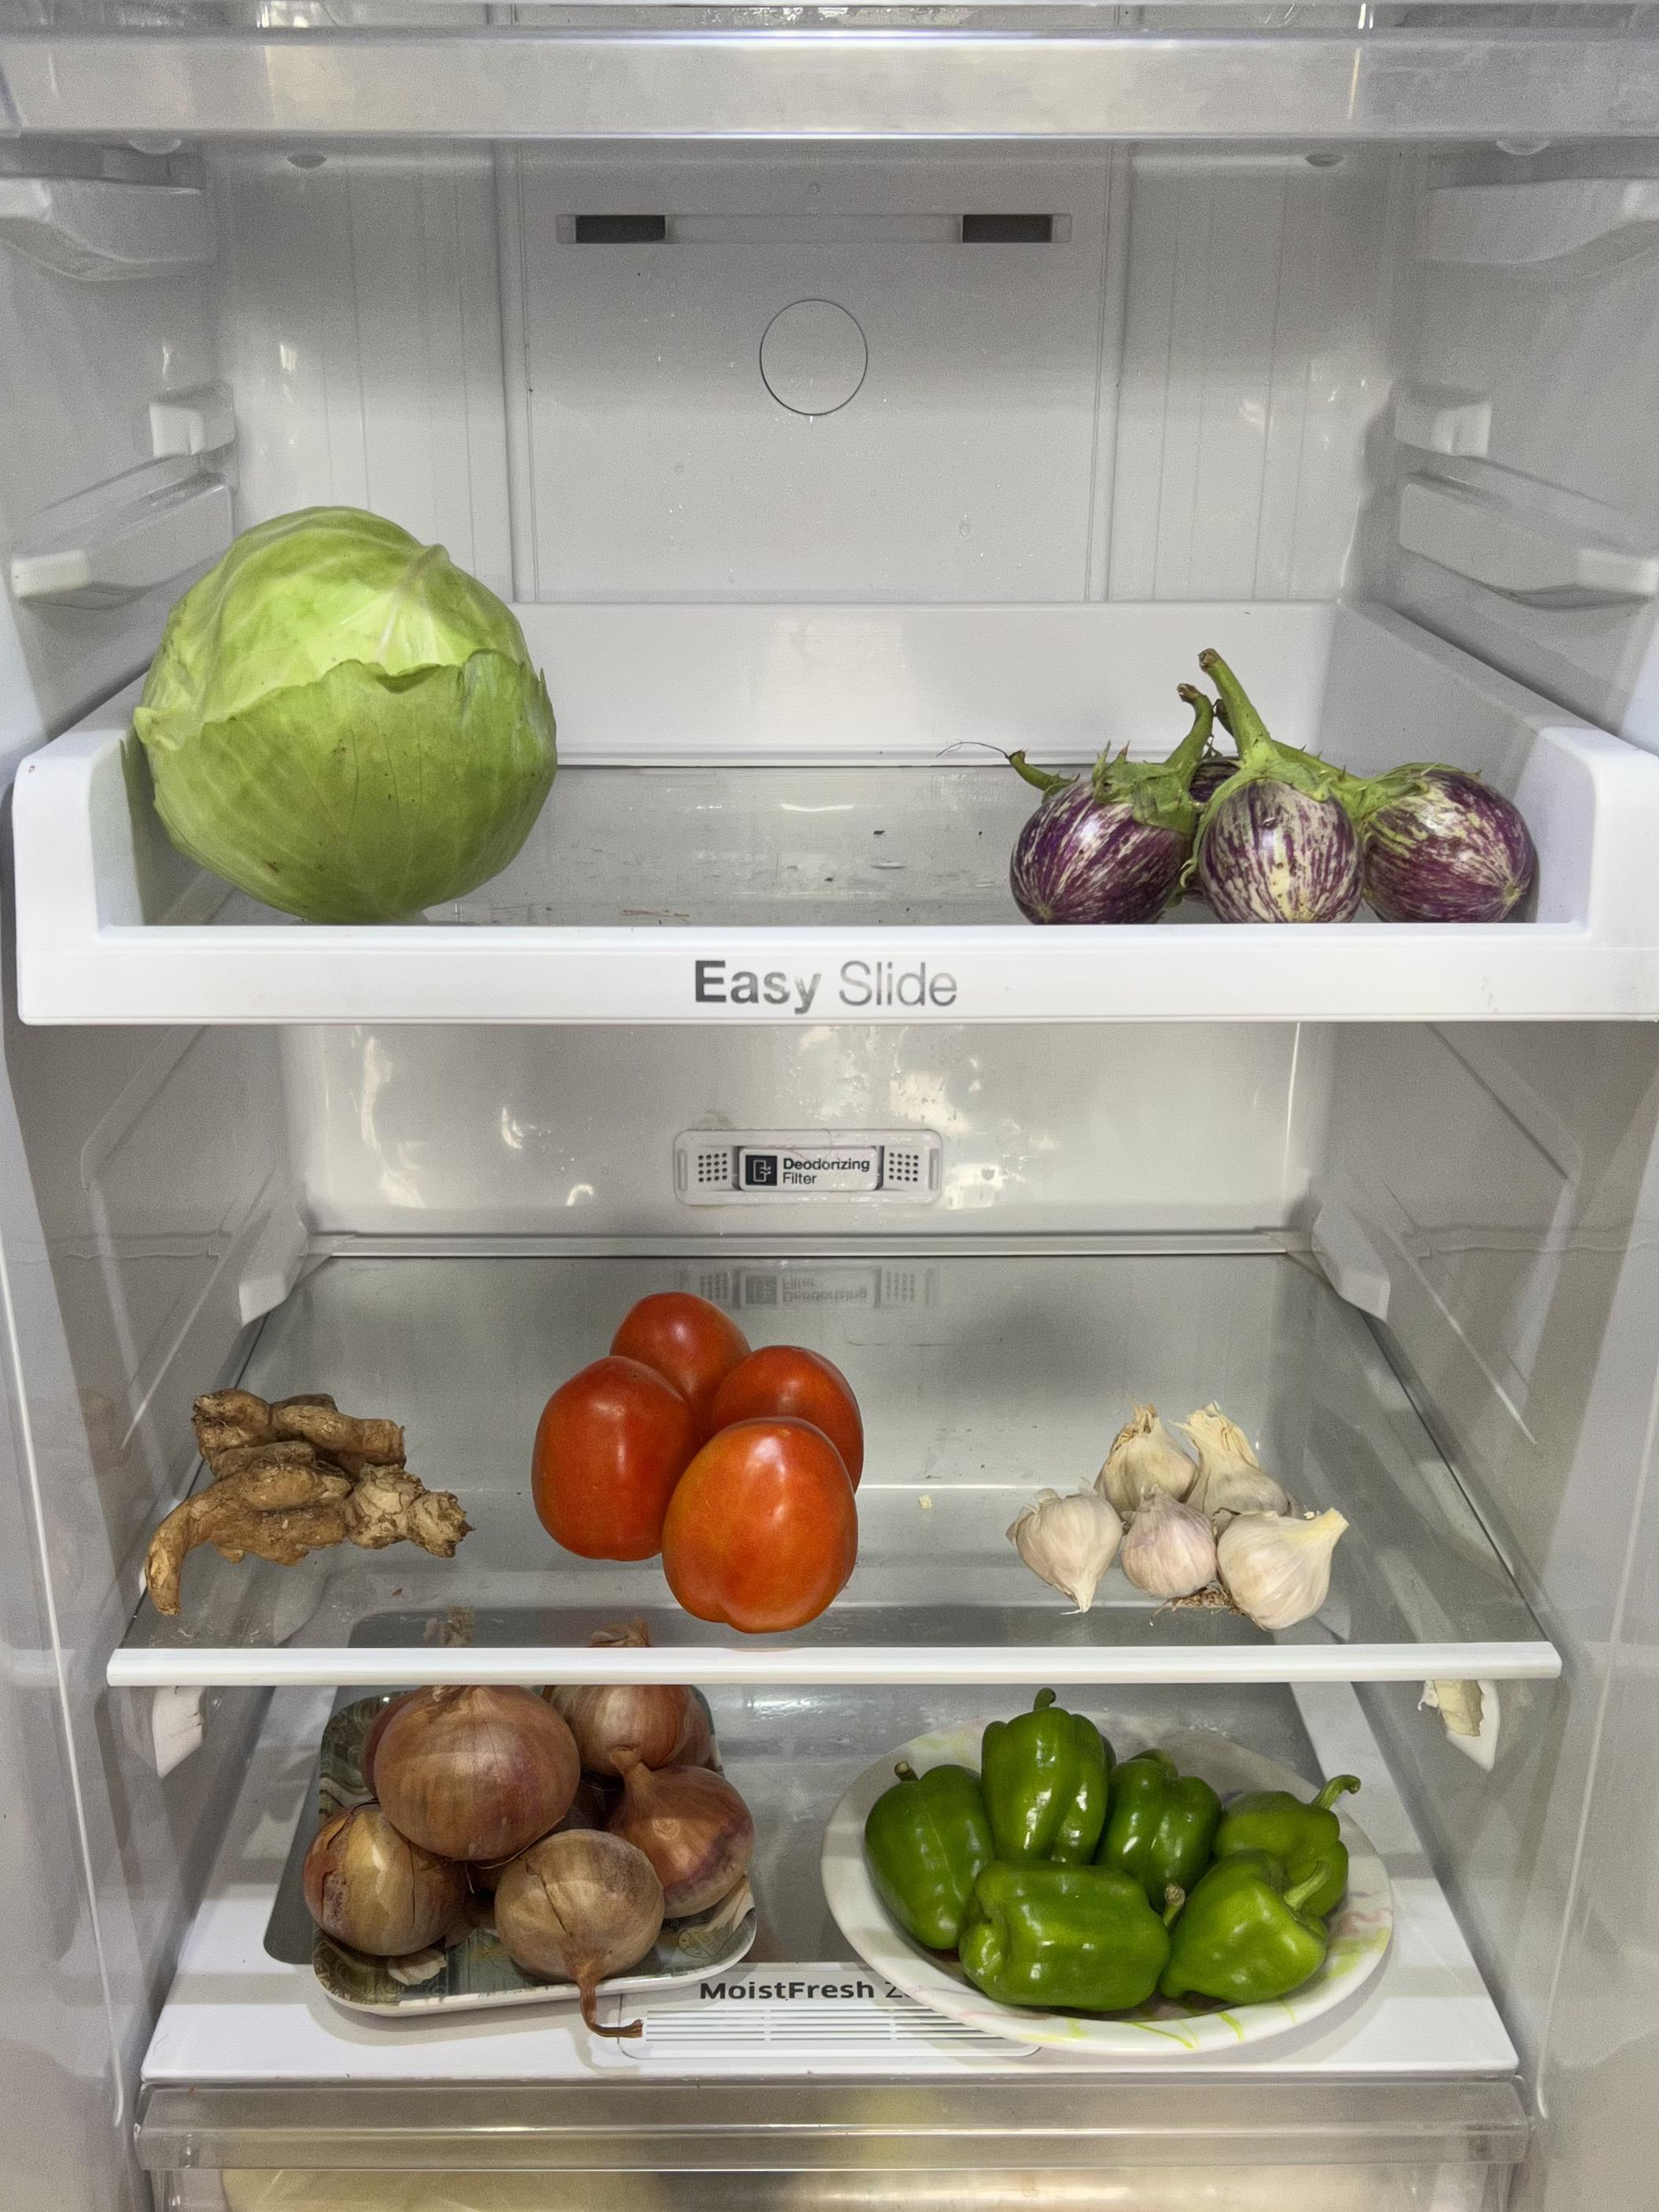bringal: (997, 698, 1556, 925)
cabbage: (112, 498, 579, 883)
capsicum: (863, 1695, 1354, 2012)
garlic: (1007, 1390, 1352, 1635)
ginger: (145, 1371, 467, 1611)
onion: (291, 1684, 756, 1980)
tomato: (532, 1284, 871, 1637)
